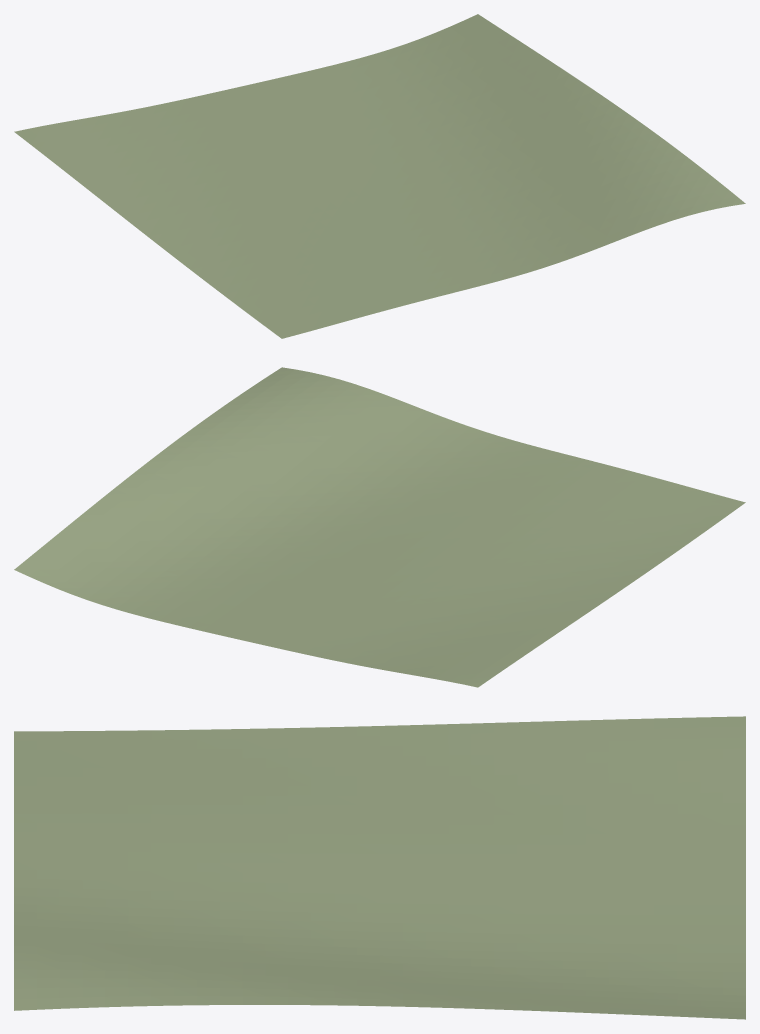
Rendered from desert-1-6.glb.
The picture shows the model from 3 angles, top to bottom: view 1: azimuth 30°, elevation 25°; view 2: azimuth 150°, elevation 25°; view 3: azimuth 270°, elevation 25°; orthographic projection. The views are drawn at different scales.
Visible parts, largest first — view 1: desert-1-6; view 2: desert-1-6; view 3: desert-1-6.
Part boxes in pixels (x1,y1,x2,y2): desert-1-6: (14, 14, 745, 338); desert-1-6: (14, 367, 745, 687); desert-1-6: (14, 716, 745, 1019).
Bounding box in the file's own units: 512 × 27.86 × 512.
